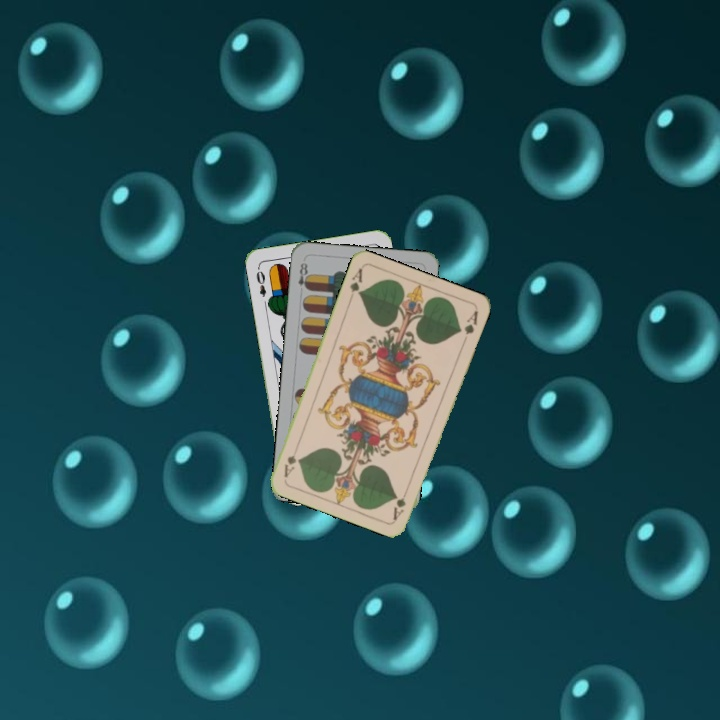E8: (294, 258, 312, 292)
EO: (252, 263, 269, 299)
GA: (389, 483, 410, 522), (345, 264, 365, 304)
